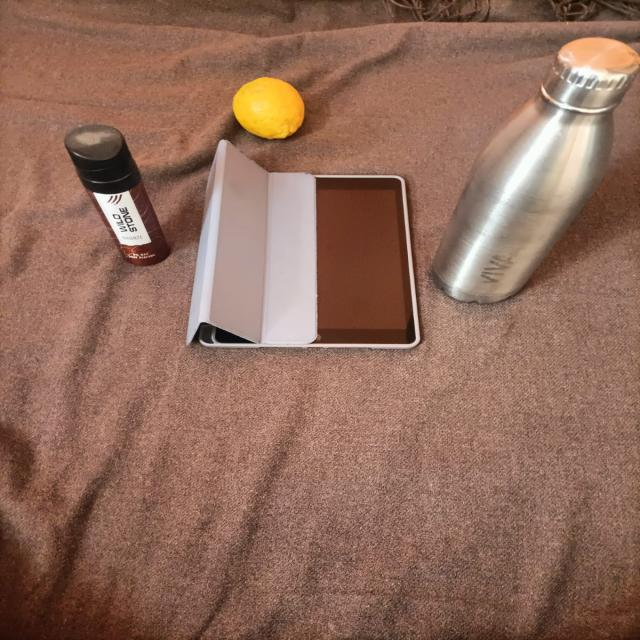bottle: (426, 25, 633, 324)
orange: (224, 70, 317, 143)
spray: (48, 113, 183, 278)
tablet: (181, 134, 425, 371)
